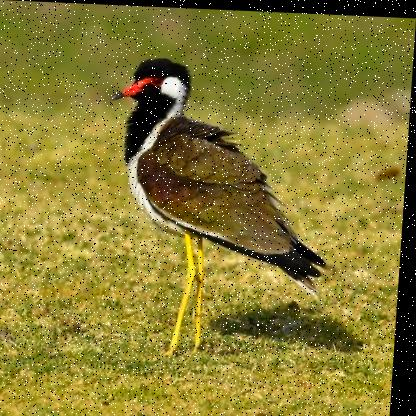Burung: (98, 54, 340, 360)
